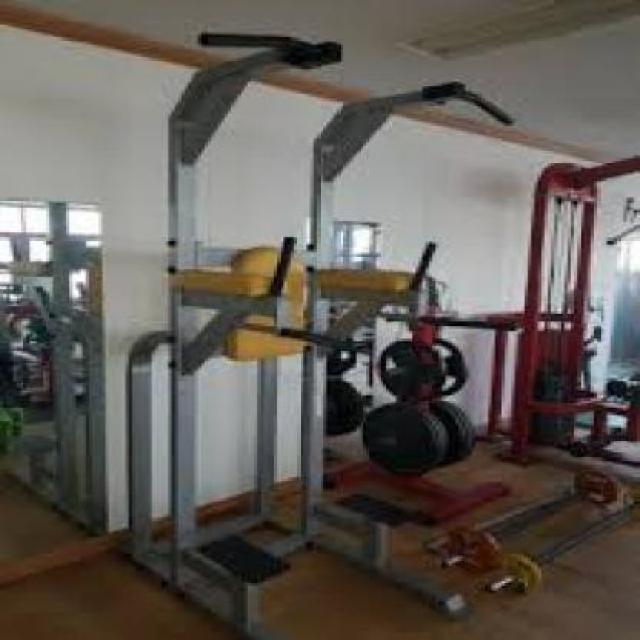chinning dipping: (111, 26, 511, 640)
